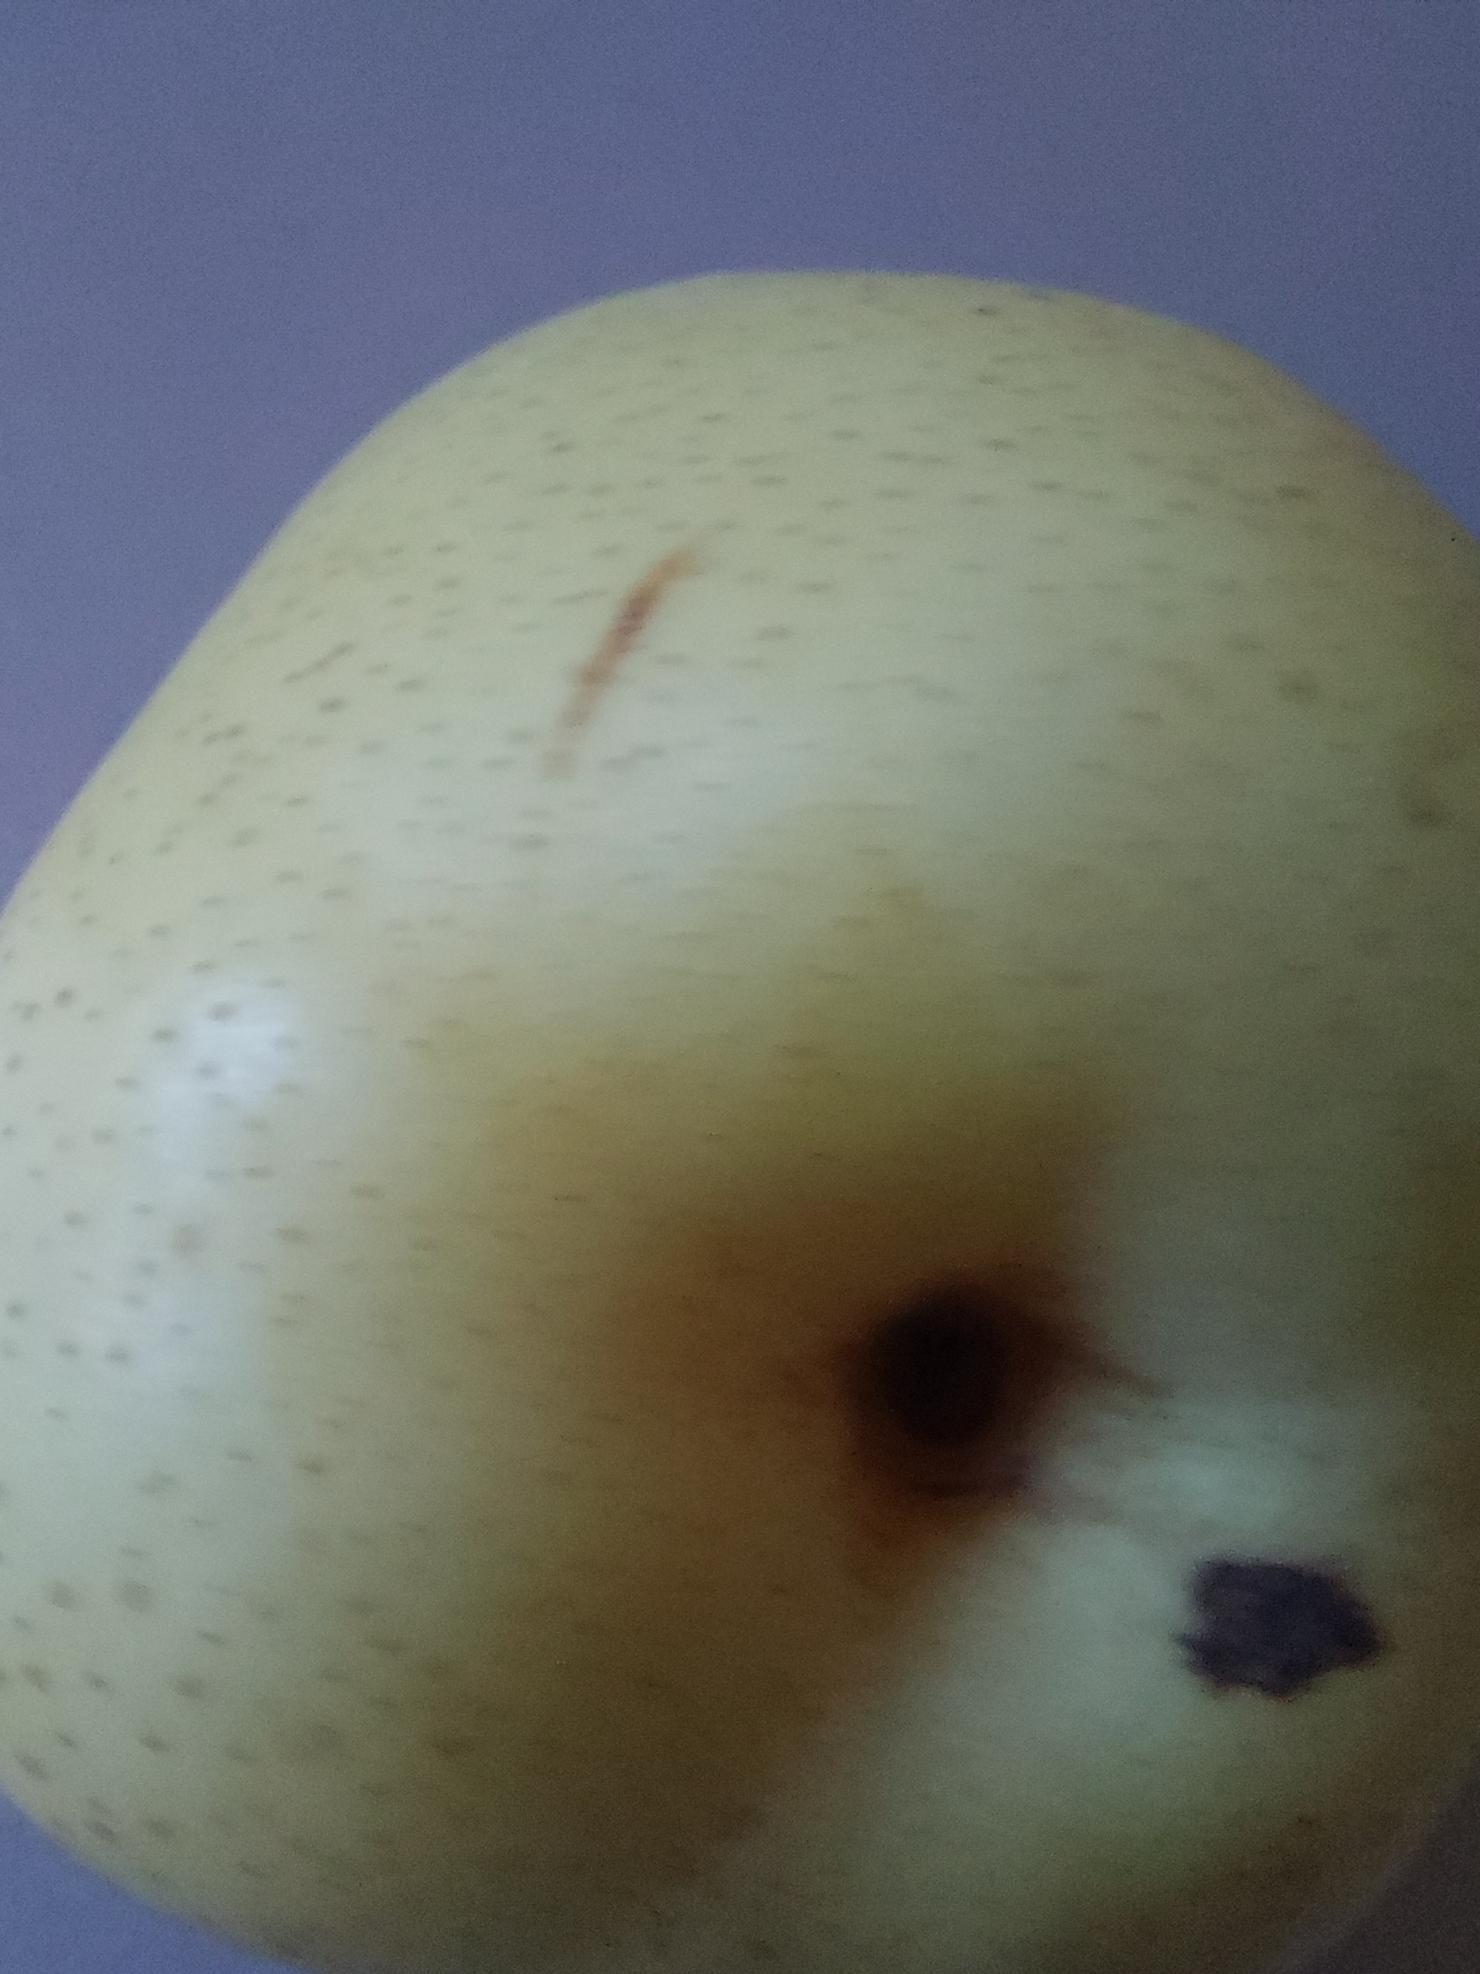Good Pear: (0, 232, 1480, 1974)
